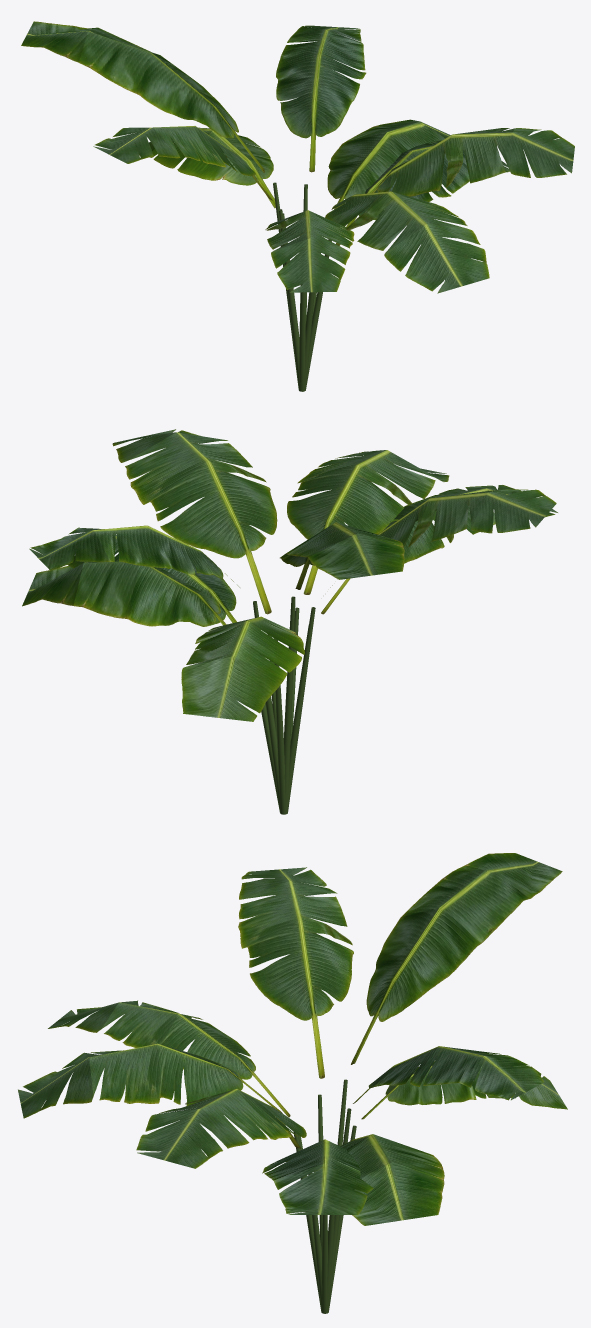
The model's file is broadleaf_03.glb.
3 views of the same model, one above another, from view 1: azimuth 30°, elevation 25°; view 2: azimuth 150°, elevation 25°; view 3: azimuth 270°, elevation 25° (orthographic). The views are drawn at different scales.
Parts seen in each view (by area): view 1: broadleaf_03; view 2: broadleaf_03; view 3: broadleaf_03.
Part boxes in pixels (box(x1,y1,x2,y2)): broadleaf_03: box(21, 21, 574, 391); broadleaf_03: box(22, 429, 557, 814); broadleaf_03: box(18, 853, 567, 1313).
Size of the model in its own units: 2.6 by 1.85 by 2.57.
2 materials, 1 textured.
